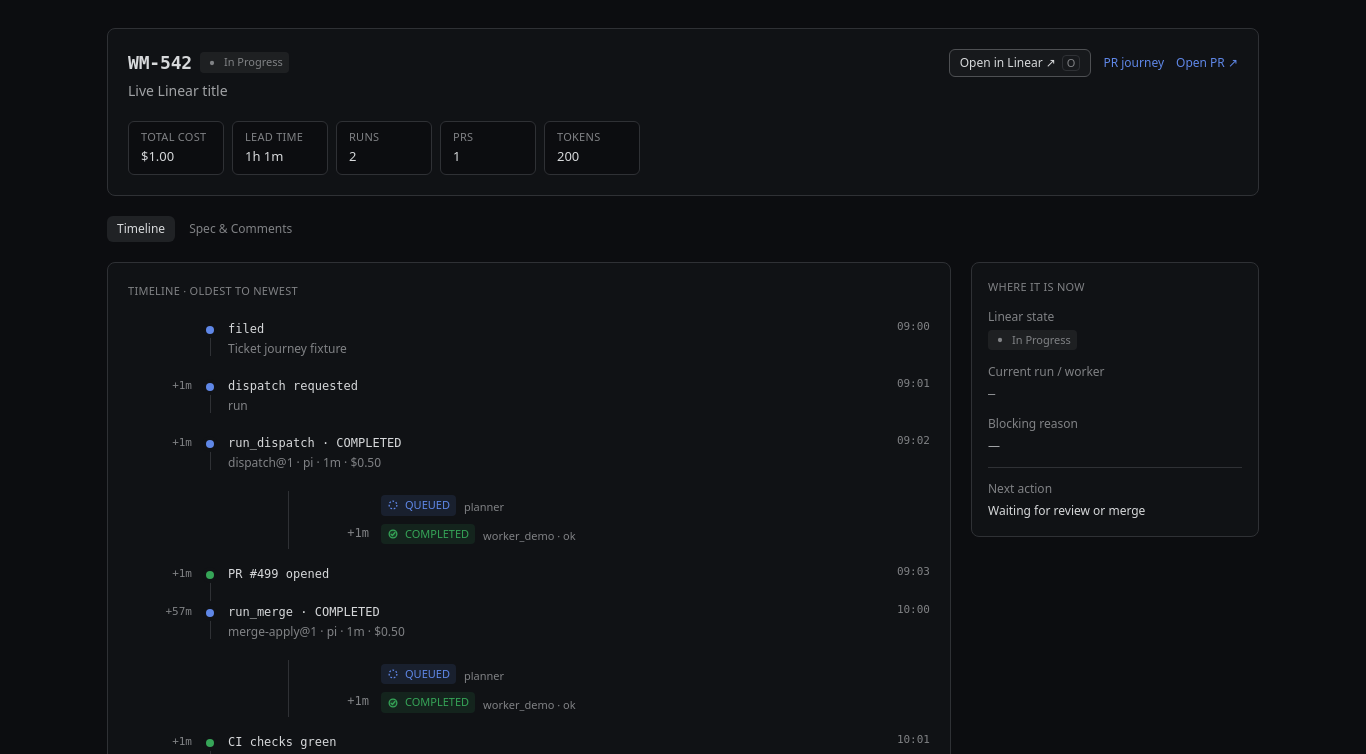
Test case: Ticket journey view › Spec & Comments tab renders the issue description and comments
The image size is (1366, 754).
Expected: the heading "WM-542" is shown, [128, 49, 192, 76]
Click the tab "Spec & Comments" at [241, 229], box [179, 216, 302, 242]
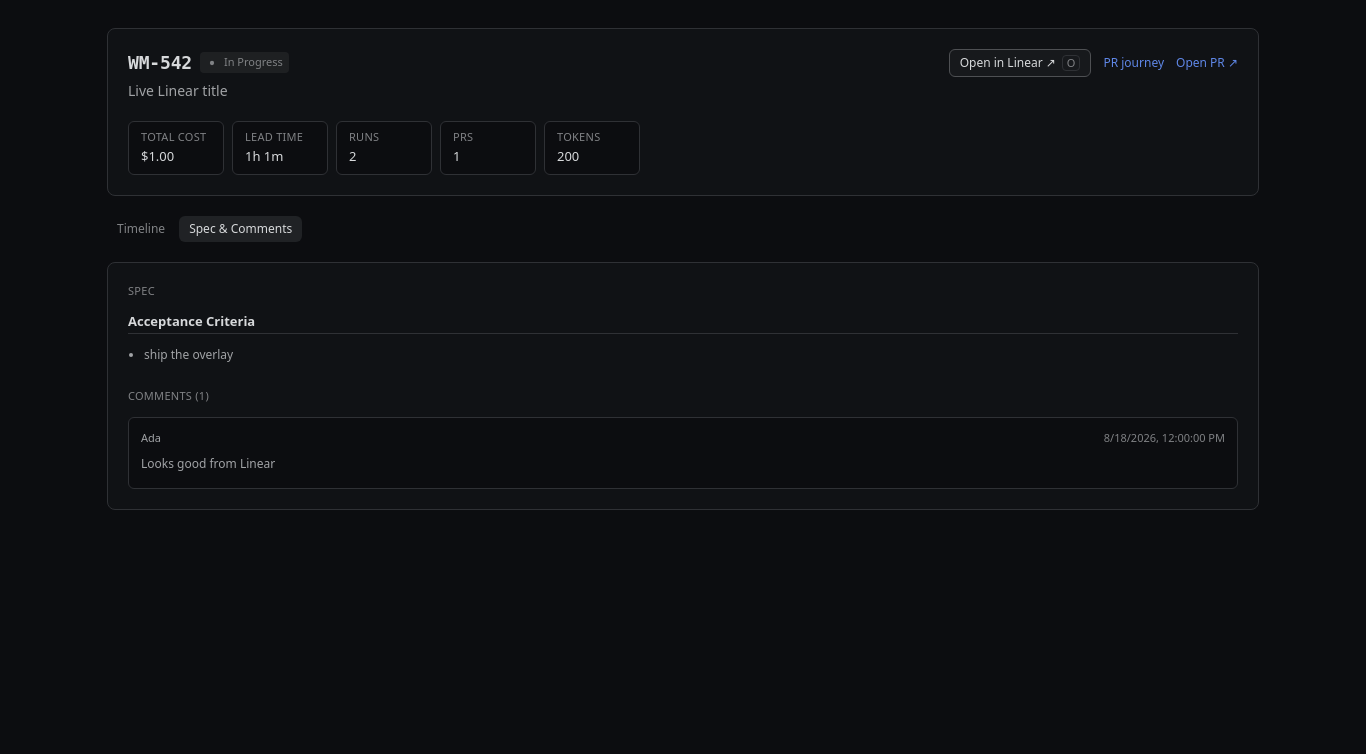
Now the panel named "spec and comments" is shown, box [107, 262, 1259, 510]
Now the heading "Acceptance Criteria" is shown, box [128, 312, 1238, 334]
Now the text "Looks good from Linear" is shown, box [141, 455, 275, 472]
